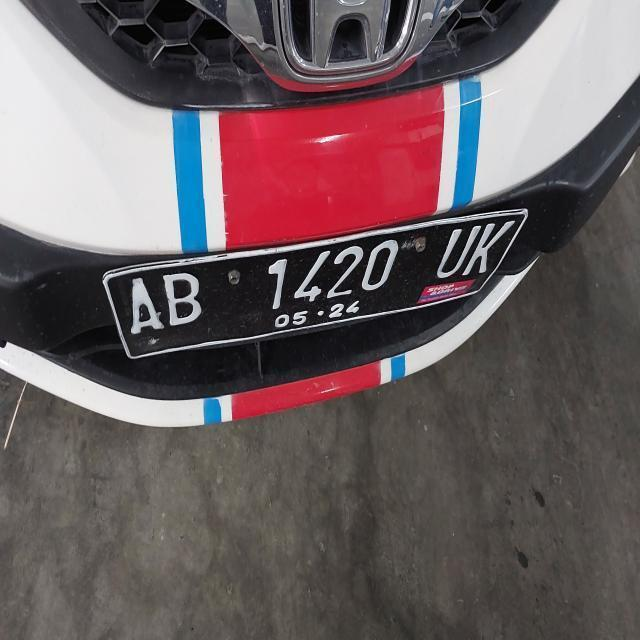0: (366, 240, 398, 294)
1: (262, 250, 288, 325)
2: (328, 248, 364, 298)
4: (291, 252, 328, 308)
A: (121, 279, 162, 343)
B: (162, 264, 206, 331)
K: (470, 222, 514, 274)
U: (436, 225, 474, 279)
